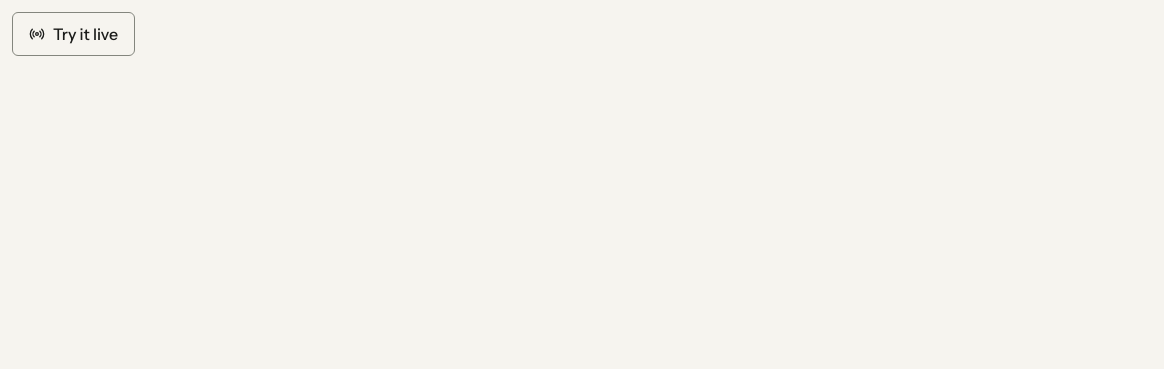
Test: TryLive › shows why a run was stopped
Step 1. Click the button "Try it live" → x=74, y=34, box [12, 12, 135, 56]
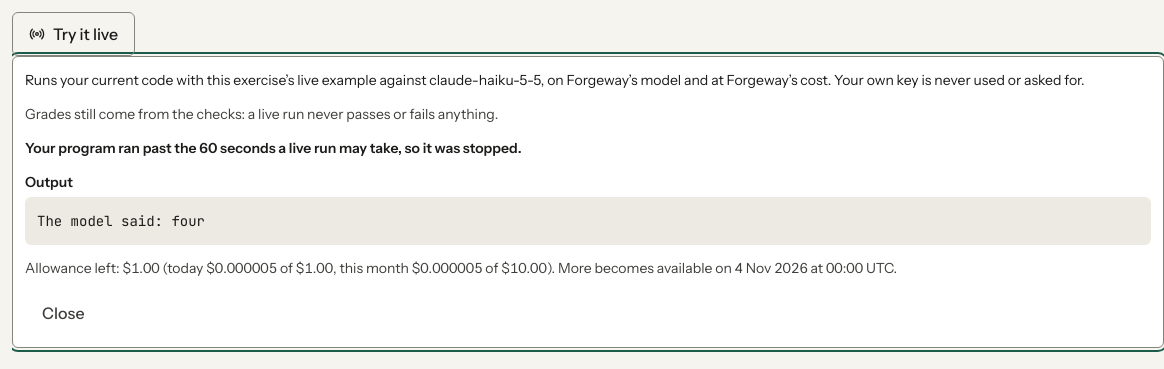
Now the text "Your program ran past the 60 seconds a live run may take, so it was stopped." is shown, box [25, 139, 522, 157]
